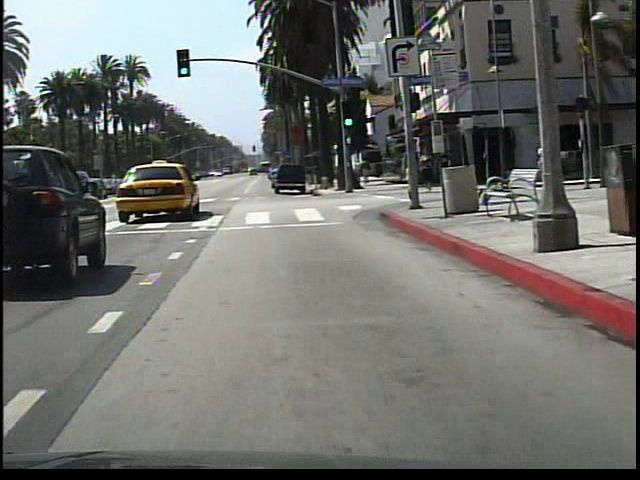person: (406, 146, 422, 197), (532, 140, 548, 182)
